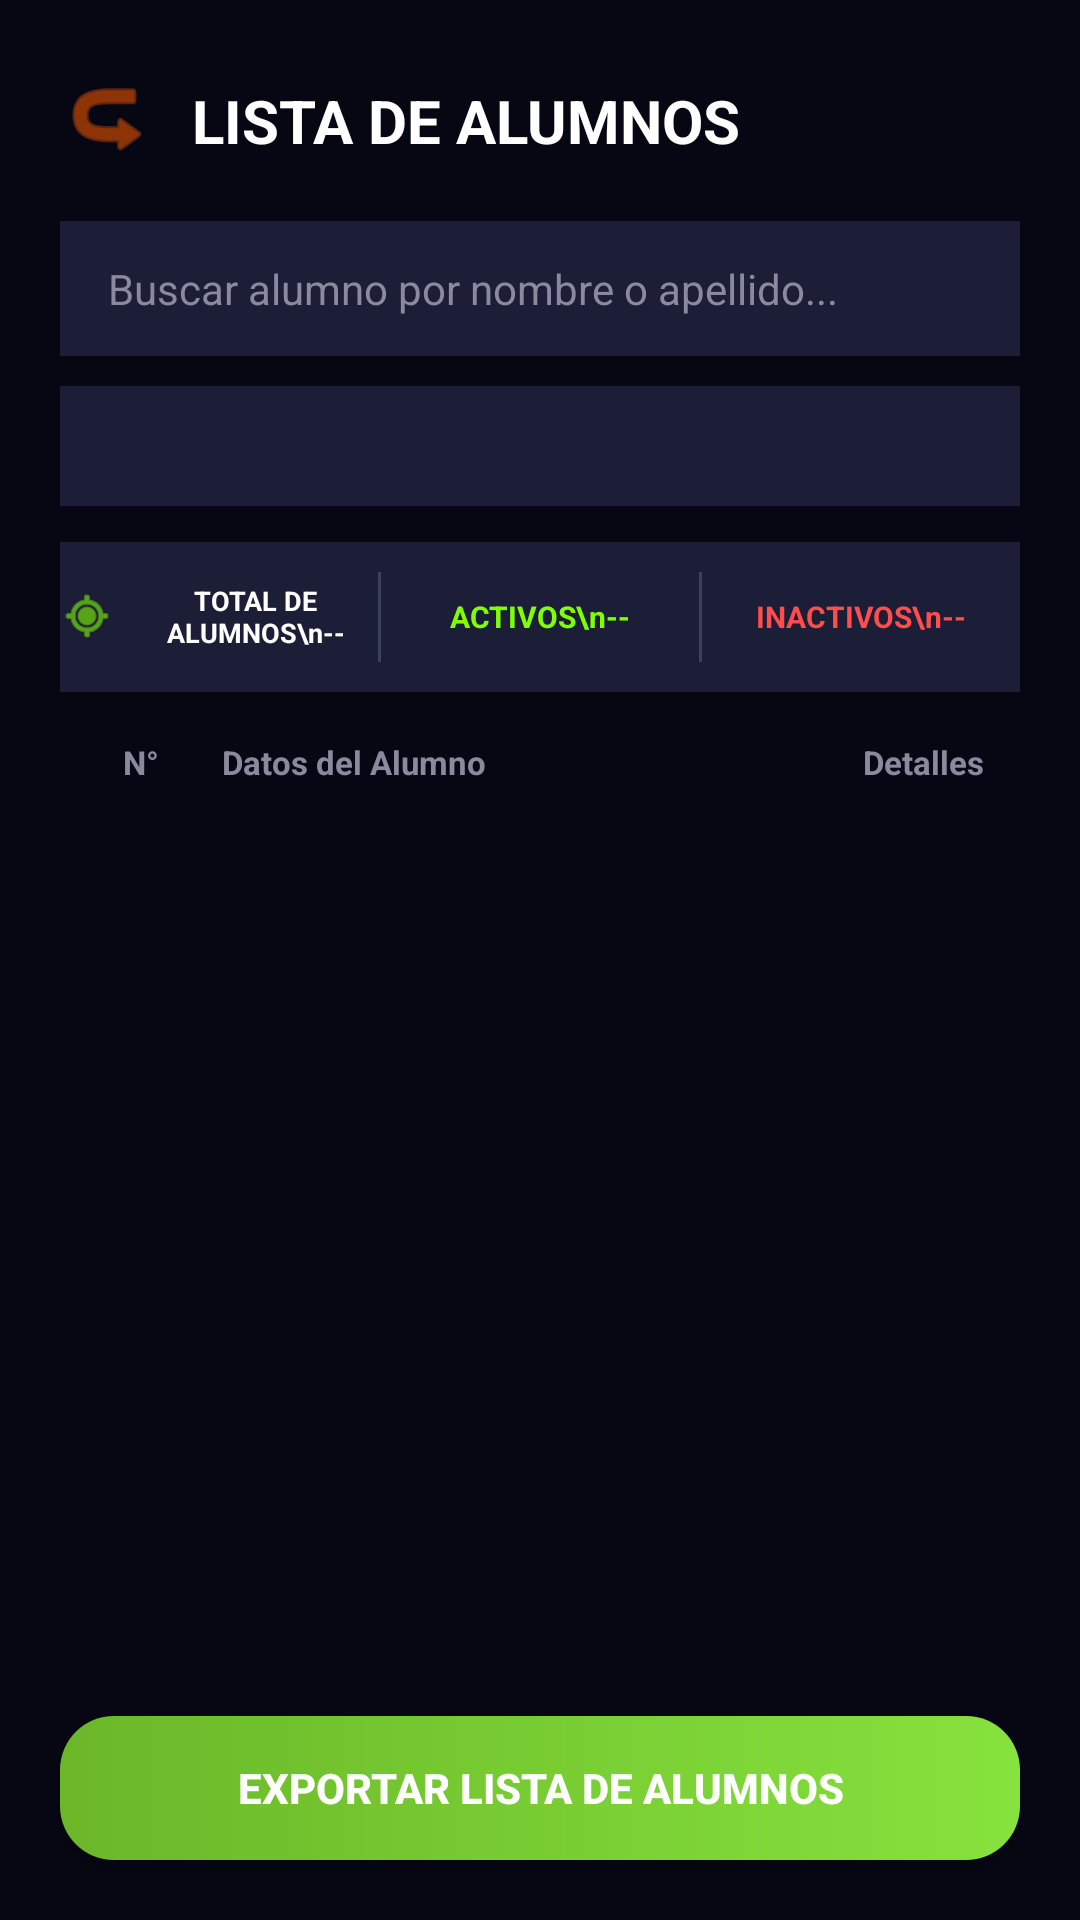

Point at icon controls on the screen. Image size 1080px×1920px, points as (x,y).
mylocation: (87,616)
